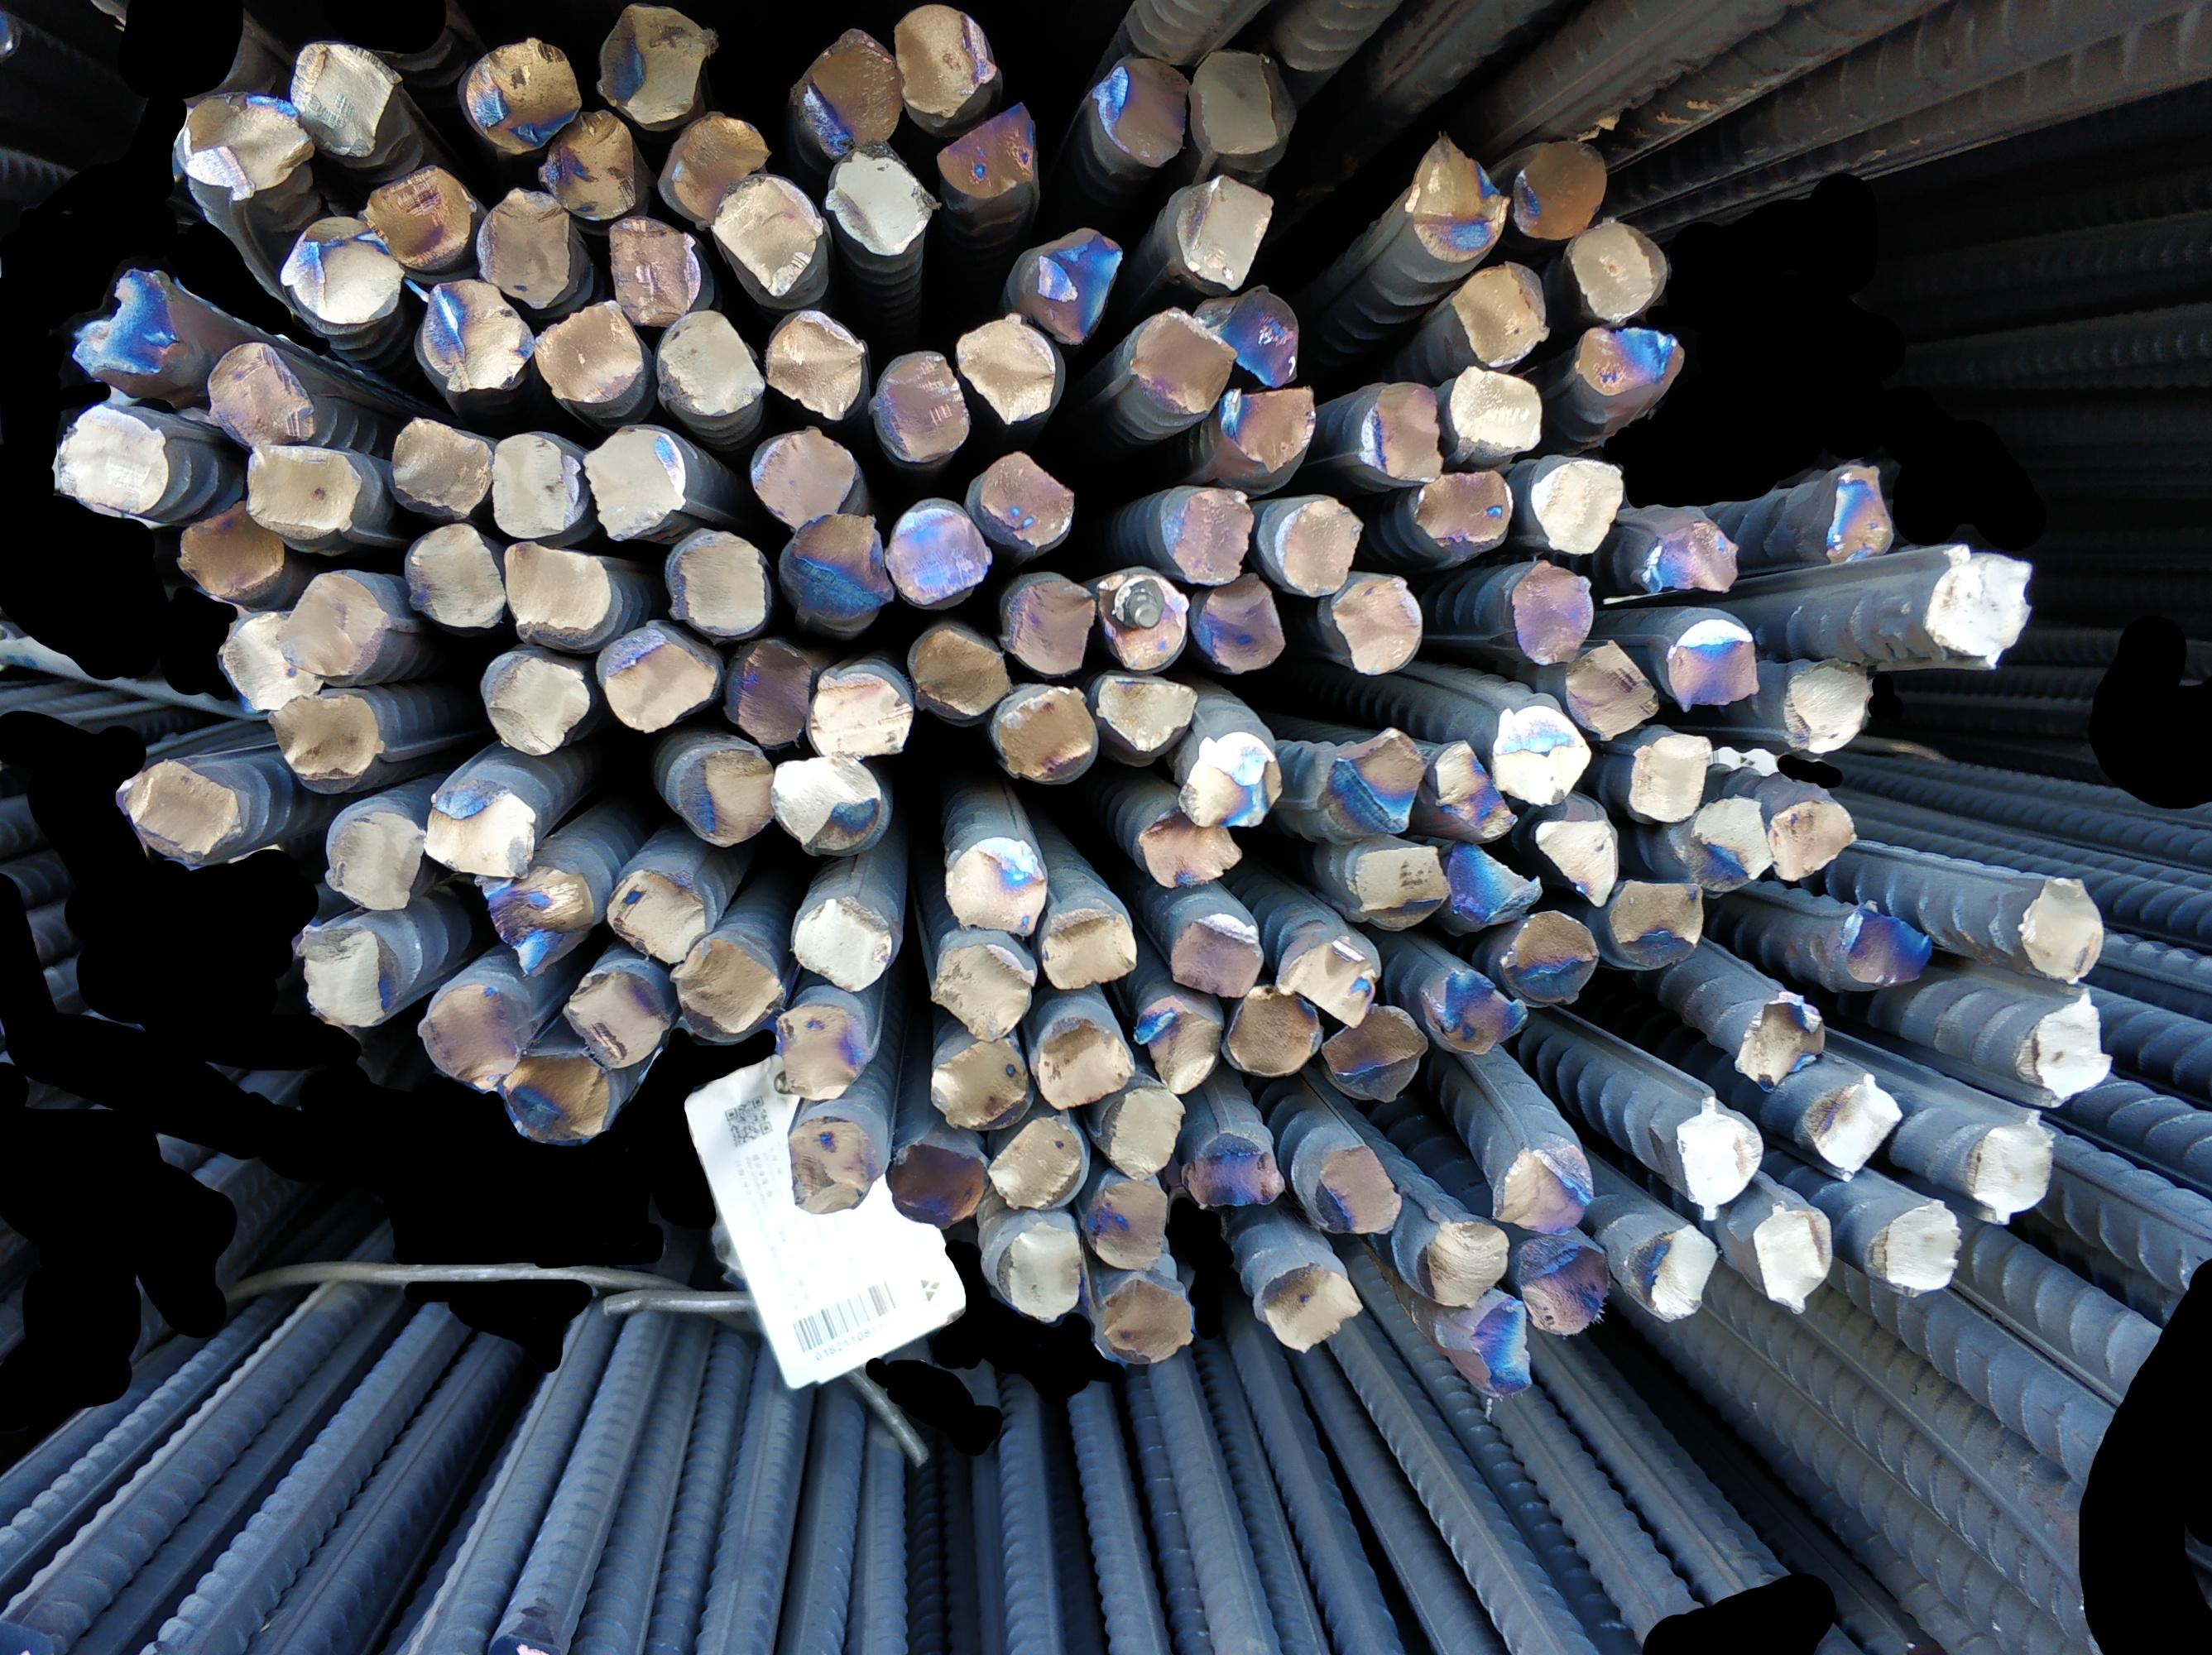bar: (167, 87, 311, 203), (785, 24, 904, 160), (52, 395, 177, 516), (712, 170, 831, 299), (71, 256, 186, 388), (275, 214, 407, 327), (469, 862, 594, 980), (1922, 539, 2035, 669), (596, 0, 716, 122), (288, 33, 403, 160), (775, 509, 893, 628), (464, 31, 579, 153), (1404, 130, 1510, 261), (419, 275, 535, 393), (599, 622, 719, 737), (582, 415, 690, 542), (217, 598, 330, 718), (1185, 45, 1288, 176), (1011, 224, 1124, 342), (1670, 1081, 1762, 1226), (203, 334, 318, 449), (890, 0, 1001, 118), (174, 492, 290, 603), (273, 568, 389, 680), (2009, 987, 2111, 1113), (659, 104, 772, 217), (264, 688, 384, 794), (478, 647, 591, 758), (123, 758, 242, 864), (535, 104, 641, 223), (476, 184, 575, 309), (1128, 306, 1239, 417), (883, 494, 992, 607), (1315, 727, 1425, 840), (1176, 169, 1274, 294), (415, 974, 523, 1087), (603, 212, 711, 325), (822, 146, 937, 252), (1187, 282, 1301, 388), (940, 831, 1050, 940), (533, 296, 645, 403), (657, 306, 765, 417), (671, 937, 784, 1043), (400, 522, 506, 635), (500, 537, 613, 643), (321, 800, 426, 914), (865, 346, 970, 461), (766, 304, 869, 421), (1089, 49, 1190, 167), (361, 162, 474, 266), (970, 449, 1083, 553), (500, 1045, 619, 1144), (419, 782, 537, 881), (666, 528, 772, 638), (751, 424, 860, 530), (292, 920, 396, 1031), (954, 313, 1056, 426), (1566, 212, 1668, 325), (772, 756, 886, 857), (1802, 1069, 1903, 1184), (243, 442, 361, 539), (560, 965, 669, 1069), (933, 92, 1039, 198), (1489, 699, 1592, 808), (389, 412, 493, 518), (992, 681, 1100, 784), (928, 940, 1036, 1043), (1486, 1139, 1595, 1240), (1451, 257, 1552, 367), (1965, 1106, 2057, 1224), (1176, 730, 1284, 831), (488, 428, 586, 539), (1745, 1200, 1837, 1316), (1508, 136, 1611, 240), (784, 1111, 884, 1217), (1526, 450, 1626, 556), (989, 1217, 1084, 1328), (789, 890, 891, 993), (770, 1000, 874, 1100), (1260, 1255, 1361, 1359), (905, 621, 1011, 720), (674, 741, 773, 847), (1093, 565, 1190, 673), (725, 635, 813, 749), (606, 864, 707, 965), (1321, 1005, 1425, 1102), (1329, 572, 1427, 676), (930, 1034, 1032, 1132), (1665, 610, 1762, 713), (1732, 986, 1828, 1090), (1275, 937, 1381, 1031), (1004, 568, 1096, 676), (1574, 316, 1682, 409), (1303, 1139, 1404, 1236), (1265, 494, 1362, 595), (890, 1137, 992, 1233), (1779, 655, 1875, 758), (810, 662, 914, 756), (1508, 560, 1597, 669), (2019, 871, 2106, 982), (1625, 1220, 1724, 1318), (1446, 365, 1545, 462), (989, 1111, 1084, 1212), (1192, 574, 1288, 675), (1220, 984, 1324, 1076), (1517, 1234, 1609, 1339), (1500, 911, 1599, 1007), (1566, 638, 1658, 741), (1418, 968, 1527, 1053), (1411, 1210, 1507, 1307), (1096, 1274, 1195, 1368), (1442, 838, 1541, 932), (1034, 1017, 1135, 1109), (1159, 483, 1249, 586), (1533, 808, 1621, 913), (1359, 377, 1446, 483), (1354, 841, 1449, 937), (1868, 1198, 1964, 1293), (1185, 1123, 1286, 1213), (1100, 1081, 1189, 1184), (1635, 508, 1738, 596), (1428, 735, 1515, 840), (1168, 909, 1267, 1000), (1218, 382, 1317, 473), (1135, 998, 1223, 1099), (1684, 793, 1771, 895), (1136, 807, 1242, 890), (1095, 671, 1197, 756), (1840, 899, 1934, 991), (1411, 468, 1515, 549), (1764, 793, 1856, 883), (1041, 906, 1136, 993), (1609, 876, 1705, 963), (1628, 727, 1712, 826), (1086, 1173, 1169, 1269), (1821, 466, 1896, 568), (1463, 1295, 1538, 1396)
